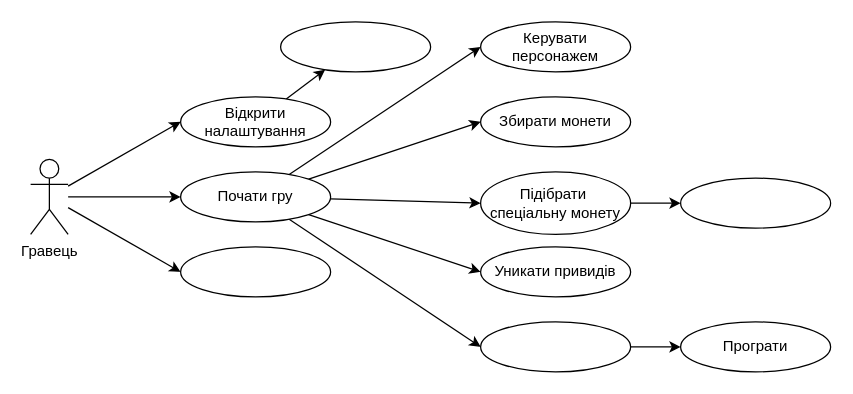
This 853x394 diagram has some shape labels left out. The shapes that lost their labels are listed below. From the top down, each one's centre as x and y in pixels, then its label:
At point (355, 46): "Змінити гучність".
At point (755, 202): "З’їсти привида".
At point (255, 271): "Вийти з гри".
At point (555, 346): "Втратити життя".
